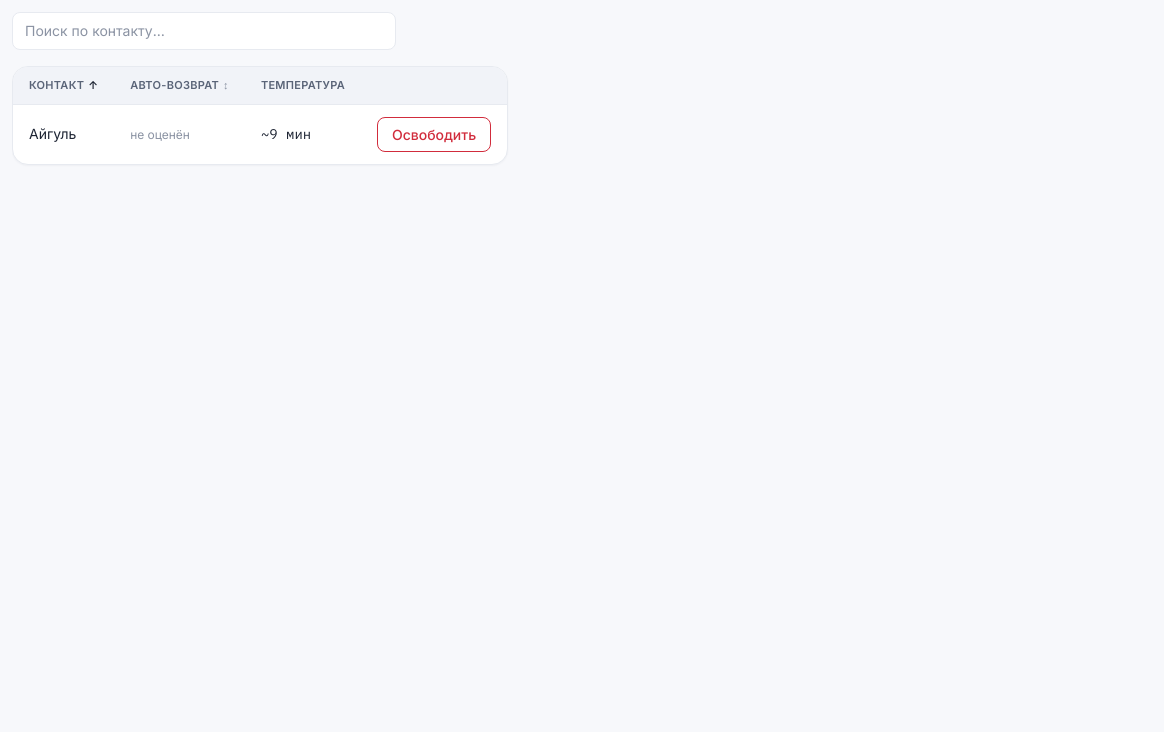
Test case: releases a chat and removes it from the list on success
Click the button "Освободить". click: (434, 134)
box: [377,116,491,152]
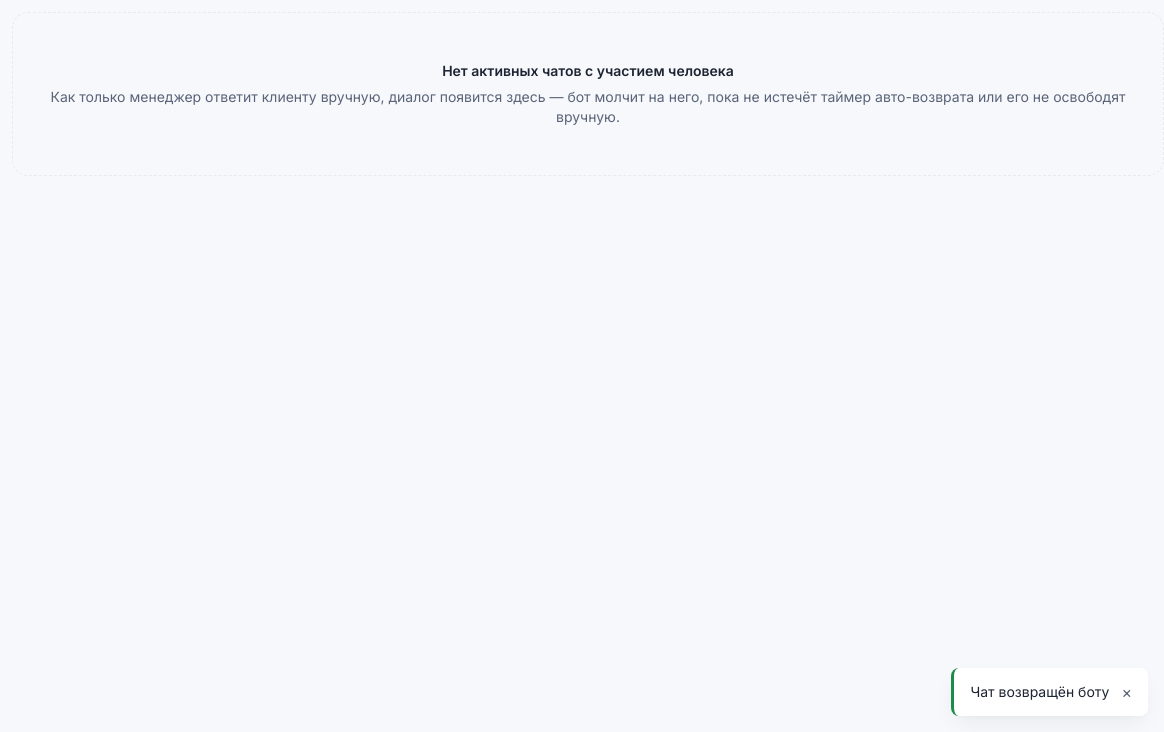
Expected: the heading "Нет активных чатов с участием человека" is shown, [442,62,734,79]
